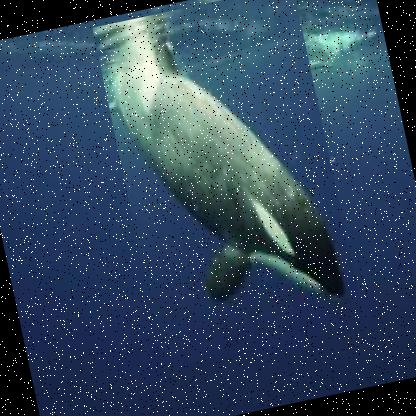killer_whale: (92, 0, 370, 382)
